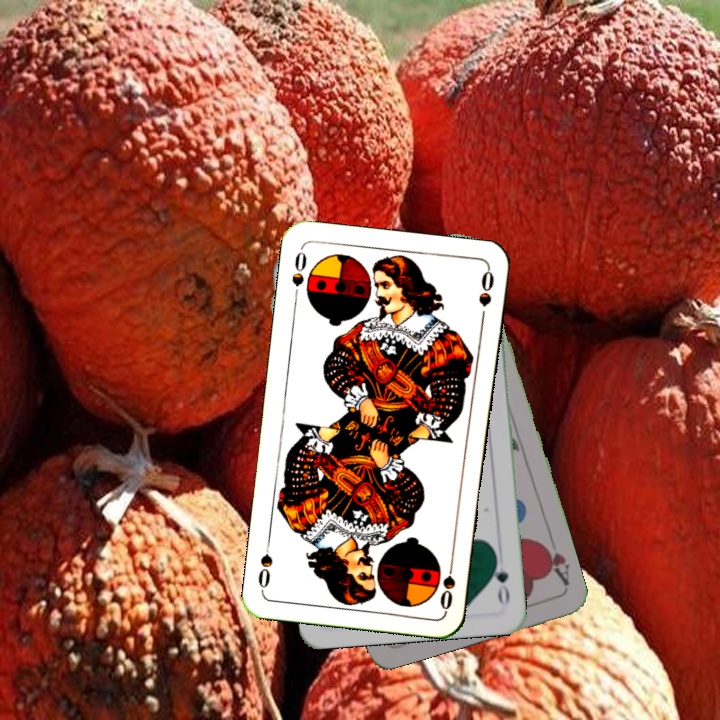GO: (488, 550, 512, 609)
HA: (536, 532, 572, 590)
SO: (436, 553, 458, 613), (288, 245, 310, 304)
